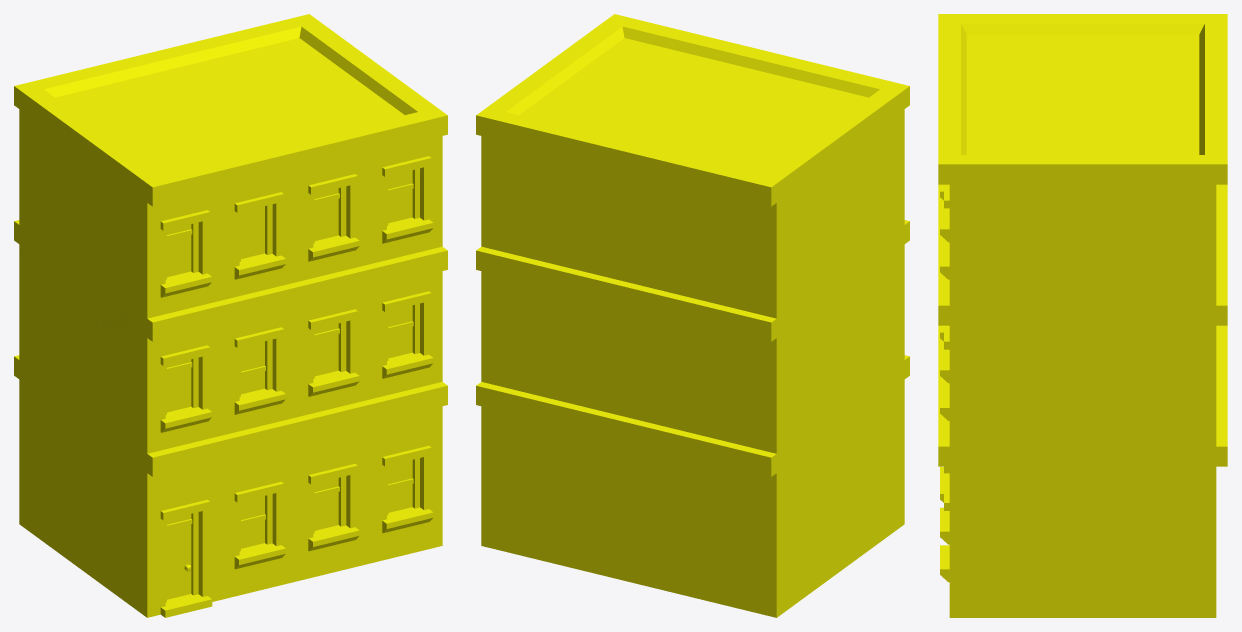
Rendered from kaykit-building-d-withoutbase.glb.
3 renders of one model, left to right at view 1: azimuth 30°, elevation 25°; view 2: azimuth 150°, elevation 25°; view 3: azimuth 270°, elevation 25°, orthographic. The views are drawn at different scales.
Parts seen in each view (by area): view 1: building_D_withoutBase; view 2: building_D_withoutBase; view 3: building_D_withoutBase.
Part boxes in pixels (x1,y1,x2,y2): building_D_withoutBase: (14,14,447,617); building_D_withoutBase: (476,14,909,617); building_D_withoutBase: (938,14,1227,617).
Bounding box in the file's own units: 1.61 × 2.25 × 1.3.
